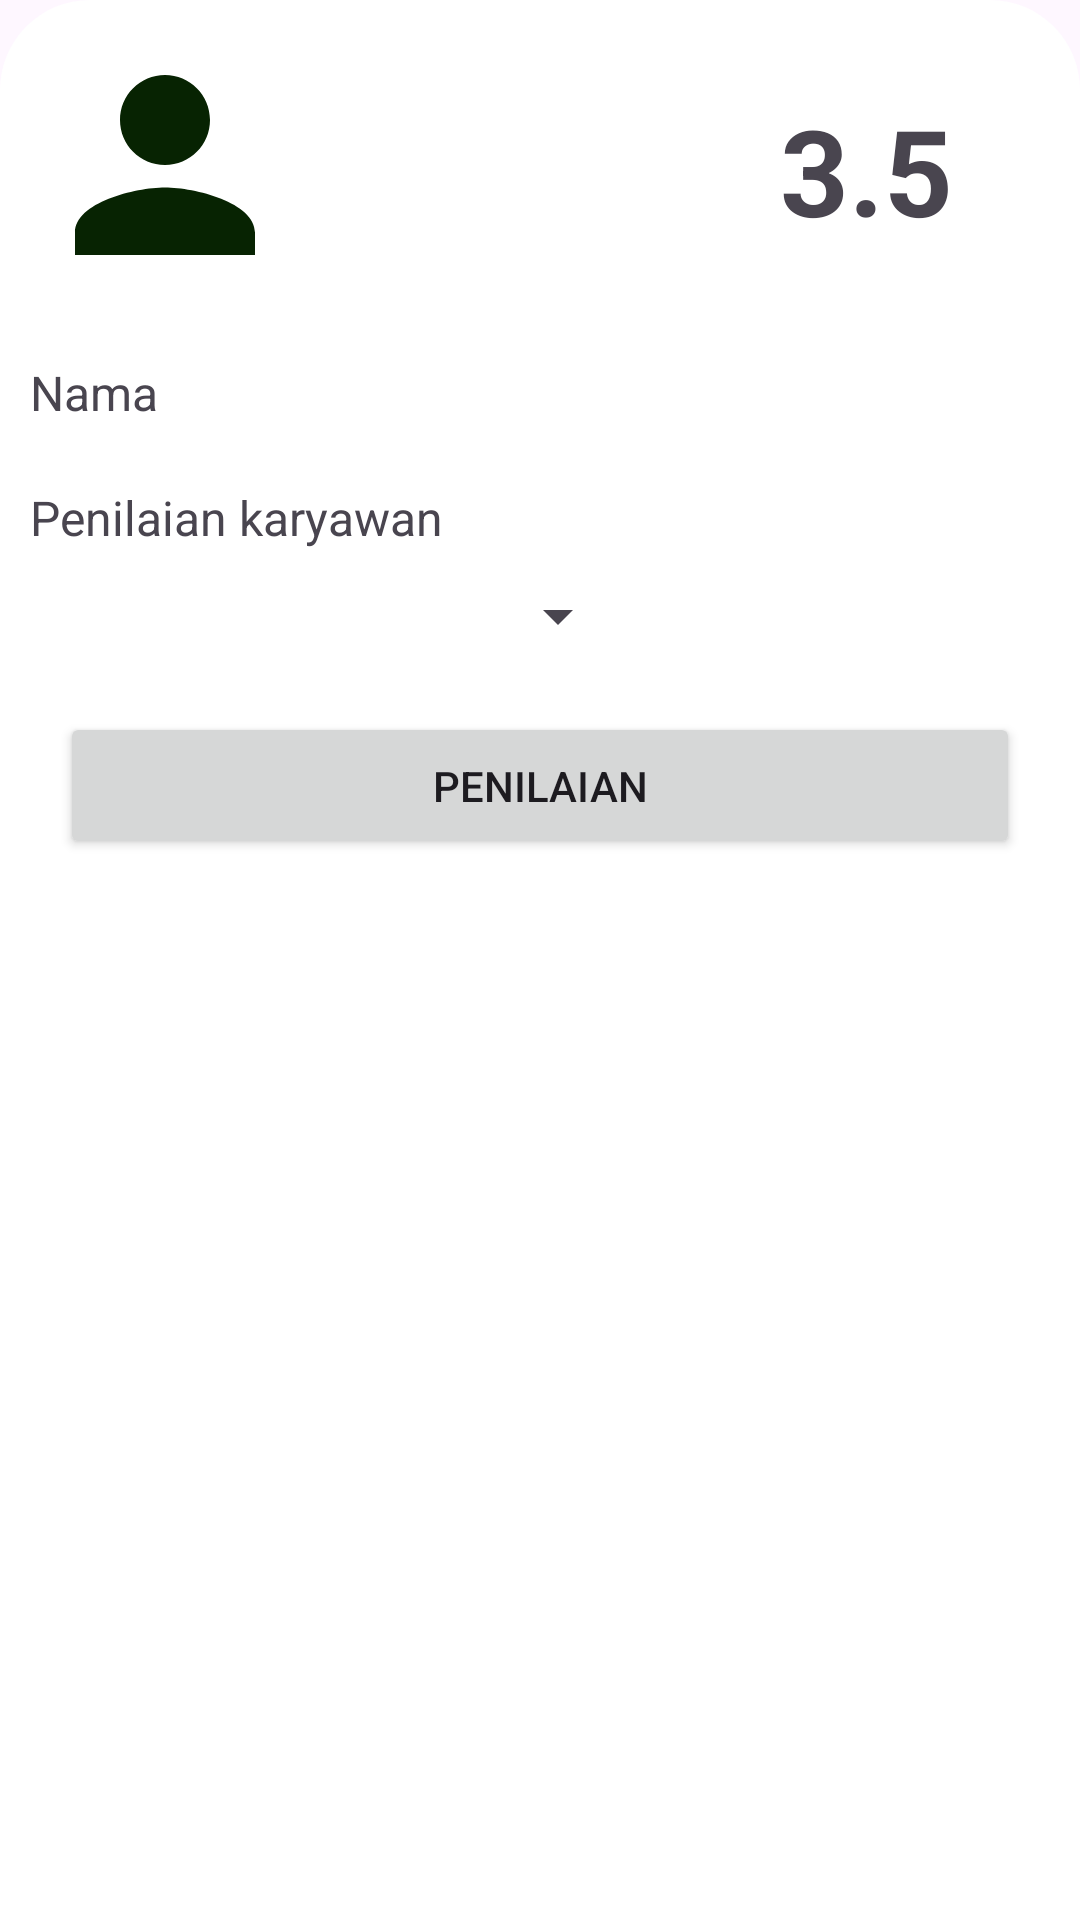

Icons on this 1080x1920 Android screen, each with the point to tap as (x=x, y=y):
person: (x=165, y=165)
